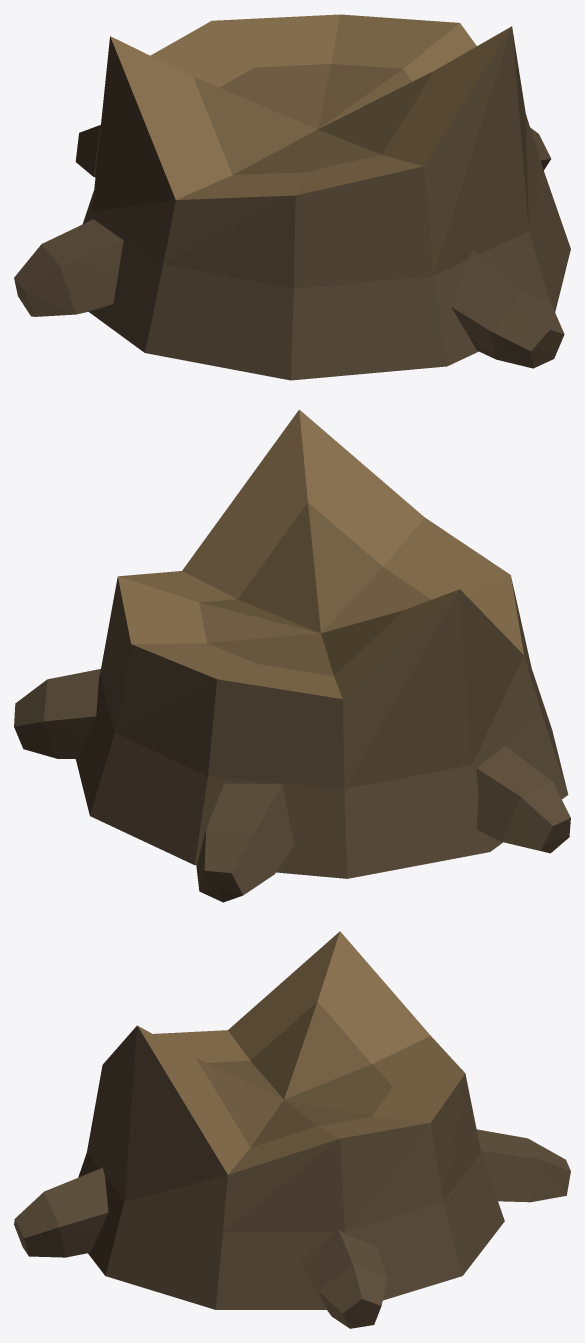
Rendered from stump_smashed_1.obj.
The picture shows the model from 3 angles, top to bottom: view 1: azimuth 30°, elevation 25°; view 2: azimuth 150°, elevation 25°; view 3: azimuth 270°, elevation 25°; orthographic projection. The views are drawn at different scales.
Visible parts, largest first — view 1: stump_smashed_1; view 2: stump_smashed_1; view 3: stump_smashed_1.
Part boxes in pixels (bbox=[...]): stump_smashed_1: bbox=[14, 14, 570, 380]; stump_smashed_1: bbox=[14, 409, 570, 902]; stump_smashed_1: bbox=[14, 931, 570, 1328].
Bounding box in the file's own units: 0.6778 × 0.337 × 0.7061.
